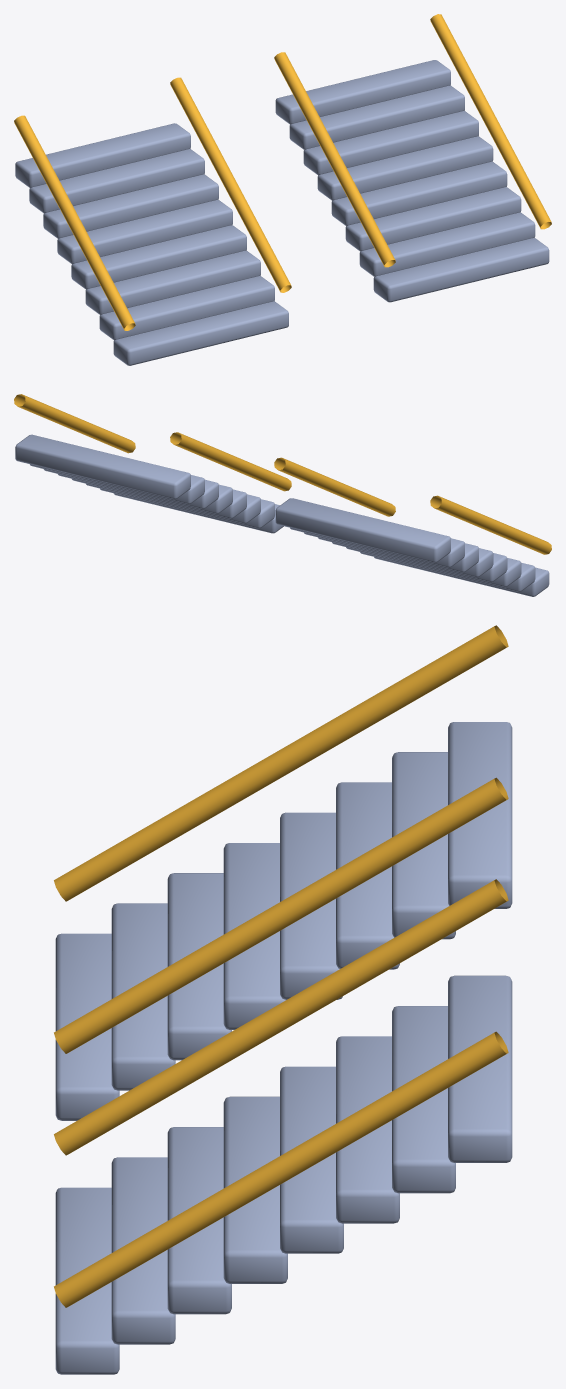
Rendered from r025_castle_stairs_stairs.glb.
3 views of the same model, one above another, from view 1: azimuth 30°, elevation 25°; view 2: azimuth 150°, elevation 25°; view 3: azimuth 270°, elevation 25° (orthographic). The views are drawn at different scales.
Visible parts, largest first — view 1: r025_castle_stairs_stairs.001; view 2: r025_castle_stairs_stairs.001; view 3: r025_castle_stairs_stairs.001.
Boxes of the visible parts, x1,y1,x2,y2 form: r025_castle_stairs_stairs.001: (14, 14, 551, 365); r025_castle_stairs_stairs.001: (14, 394, 551, 596); r025_castle_stairs_stairs.001: (54, 625, 512, 1374).
Size of the model in its own units: 7.4 by 2.82 by 3.43.
